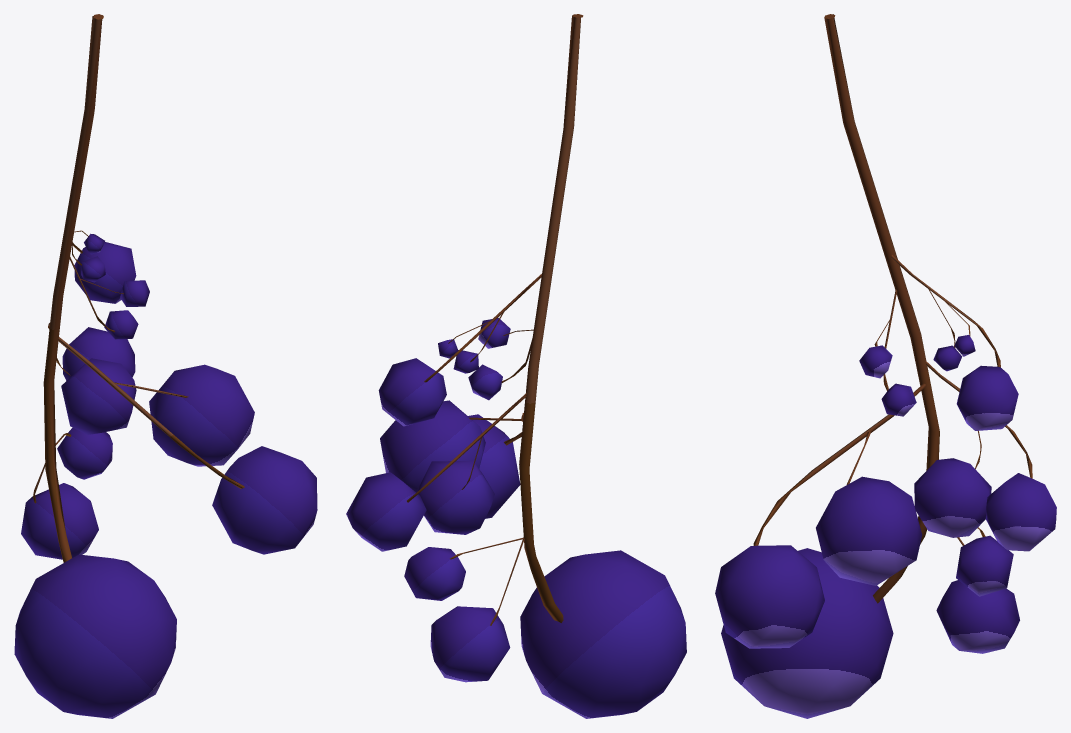
Rendered from Prefab_Scatter_Berries.glb.
3 views of the same model, side by side, from view 1: azimuth 30°, elevation 25°; view 2: azimuth 150°, elevation 25°; view 3: azimuth 270°, elevation 25° (orthographic). The views are drawn at different scales.
Parts seen in each view (by area): view 1: BezierCurve.013; view 2: BezierCurve.013; view 3: BezierCurve.013.
Boxes of the visible parts, x1,y1,x2,y2 form: BezierCurve.013: (14, 14, 317, 718); BezierCurve.013: (346, 14, 686, 718); BezierCurve.013: (715, 14, 1056, 718).
Bounding box in the file's own units: 0.0316 × 0.0765 × 0.0339.
1 material, 1 textured.
